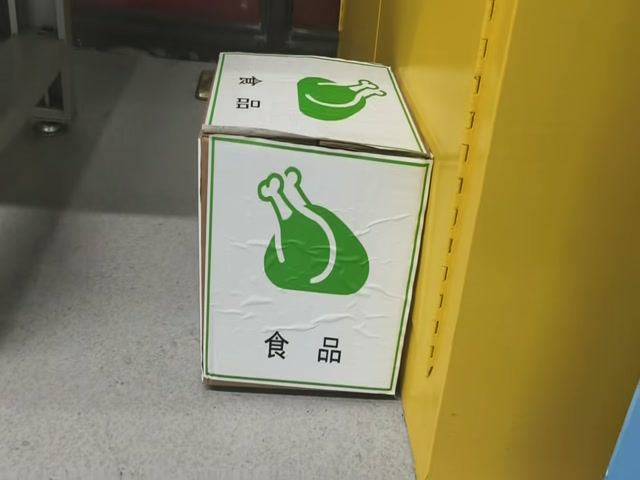Cube_food: (201, 54, 425, 148)
